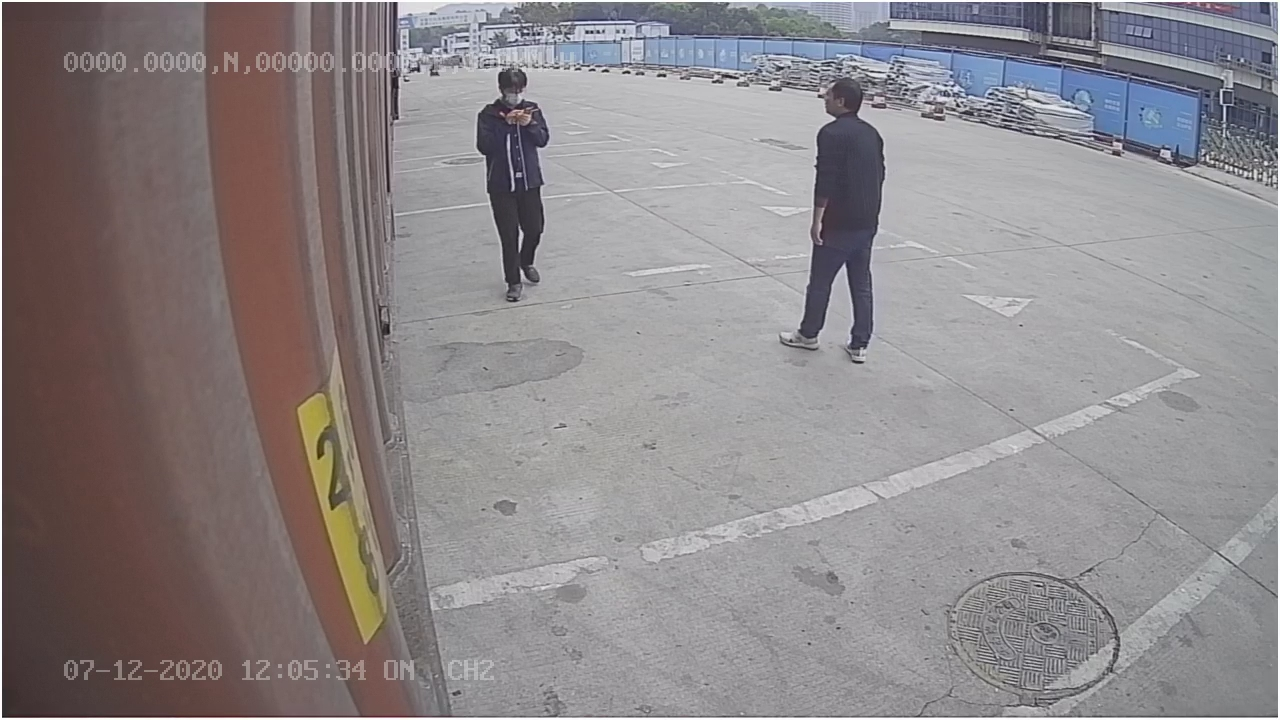person: (774, 78, 885, 367), (473, 67, 552, 304)
